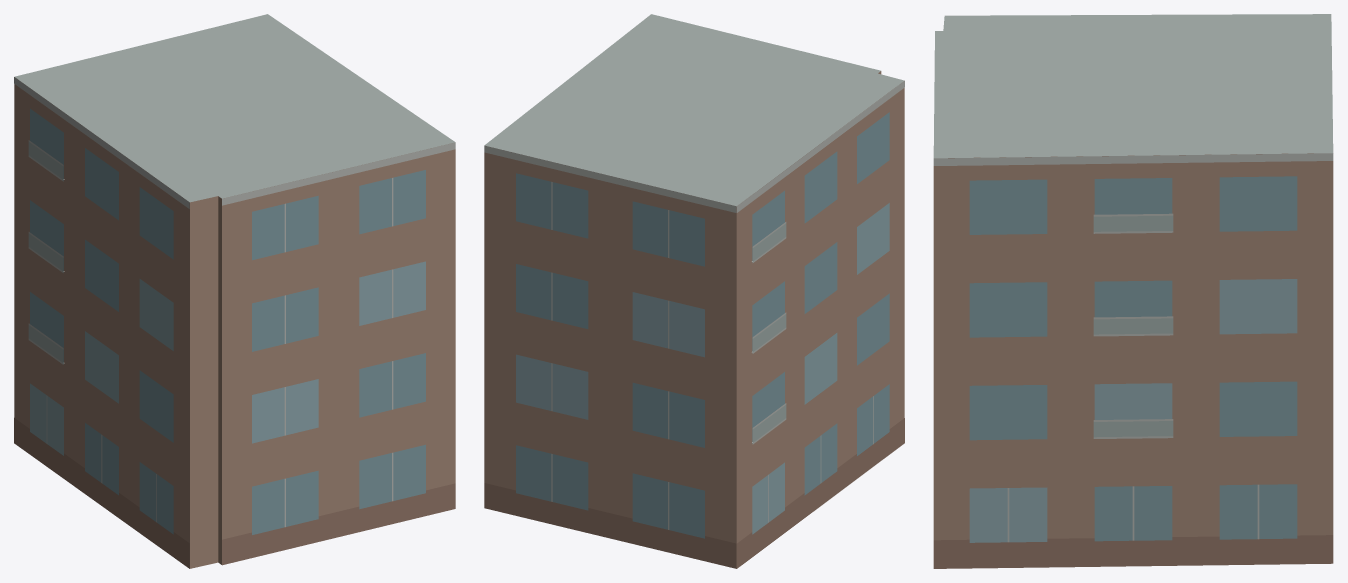
The model's file is survey-upis-32696350.glb.
3 views of the same model, side by side, from view 1: azimuth 30°, elevation 25°; view 2: azimuth 150°, elevation 25°; view 3: azimuth 270°, elevation 25° (orthographic). The views are drawn at different scales.
Visible parts, largest first — view 1: survey-upis-32696350.tmp; view 2: survey-upis-32696350.tmp; view 3: survey-upis-32696350.tmp.
Part boxes in pixels (x1=…): survey-upis-32696350.tmp: x1=14, y1=14, x2=455, y2=568; survey-upis-32696350.tmp: x1=484, y1=14, x2=904, y2=568; survey-upis-32696350.tmp: x1=933, y1=14, x2=1333, y2=568.
Bounding box in the file's own units: 9.68 × 12.8 × 11.3.
